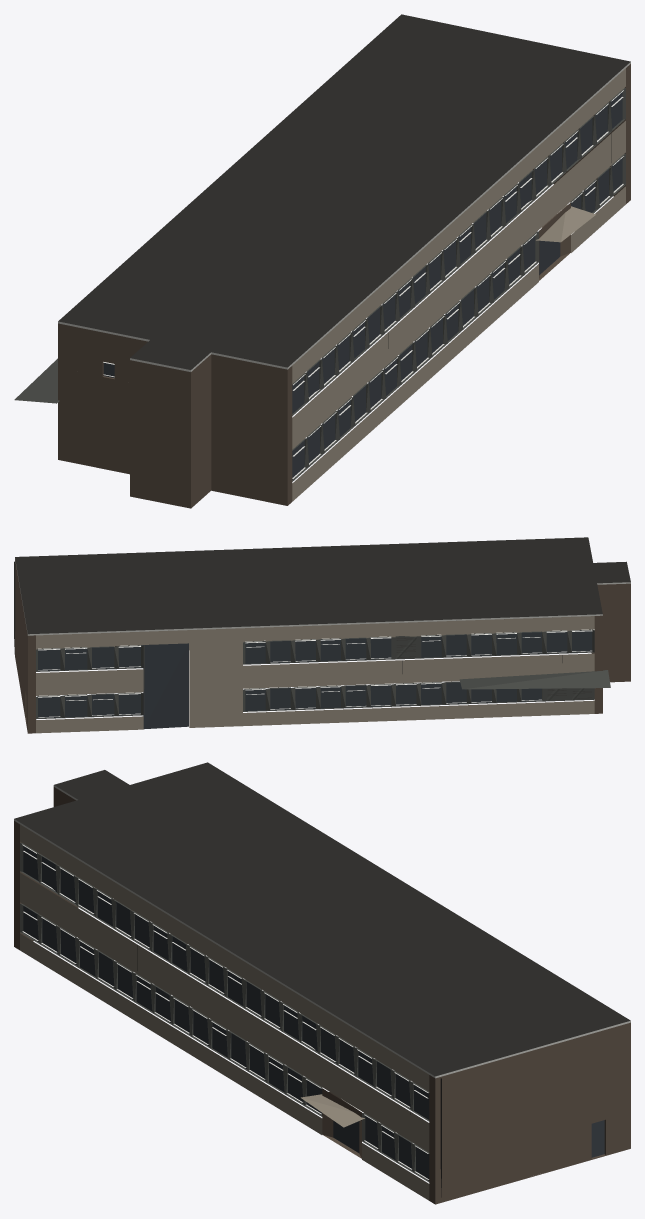
The model's file is commandementsgebouw.lod1.glb.
3 renders of one model, top to bottom at view 1: azimuth 30°, elevation 25°; view 2: azimuth 150°, elevation 25°; view 3: azimuth 270°, elevation 25°, orthographic. The views are drawn at different scales.
Parts seen in each view (by area): view 1: commandementsgebouw; view 2: commandementsgebouw; view 3: commandementsgebouw.
Part boxes in pixels (left/top/right/bottom): commandementsgebouw: left=14, top=14, right=630, bottom=508; commandementsgebouw: left=14, top=537, right=630, bottom=733; commandementsgebouw: left=14, top=762, right=630, bottom=1204.
Bounding box in the file's own units: 44.45 × 8.13 × 35.49.
